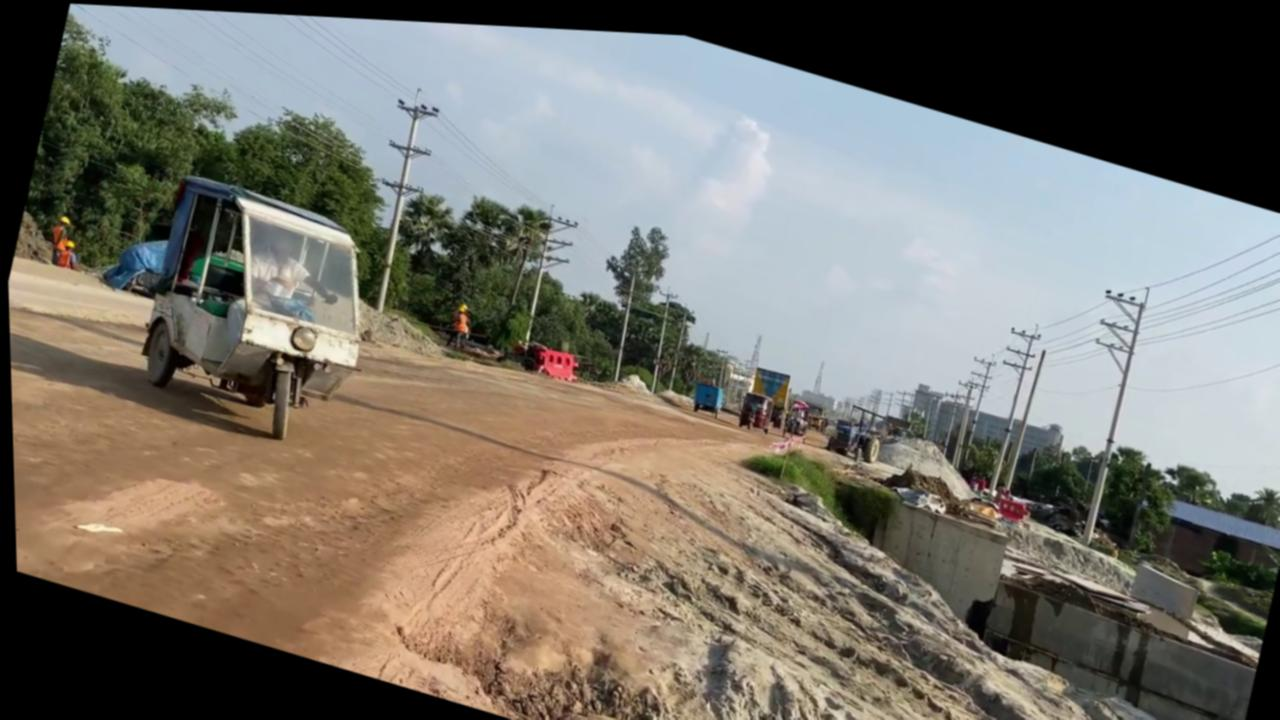Construction-barrier: (523, 335, 581, 379)
Obstacle: (1123, 547, 1199, 610)
Pole: (343, 75, 449, 315), (499, 192, 583, 353), (603, 261, 644, 377)
Traffic-sign: (575, 205, 677, 385)
Tree: (119, 162, 397, 458), (424, 290, 500, 355), (821, 389, 886, 457), (733, 380, 775, 428), (777, 386, 812, 434), (687, 372, 723, 411), (799, 391, 829, 425)
